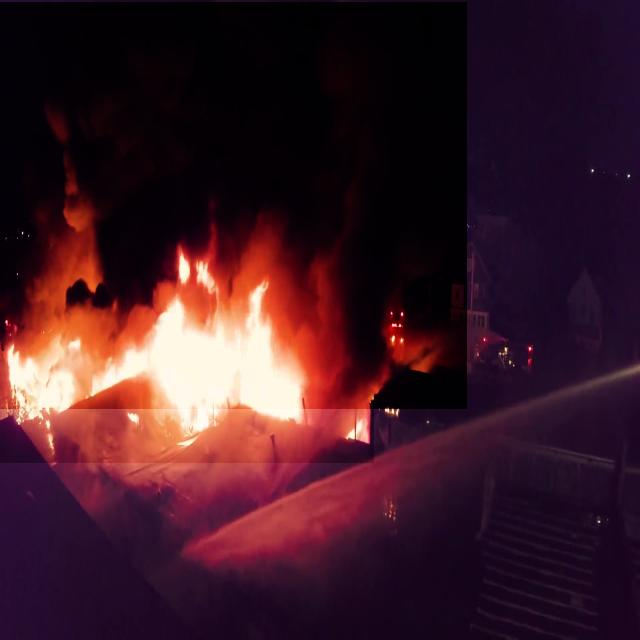Fire: (0, 240, 374, 463)
Smoke: (0, 2, 467, 409)
